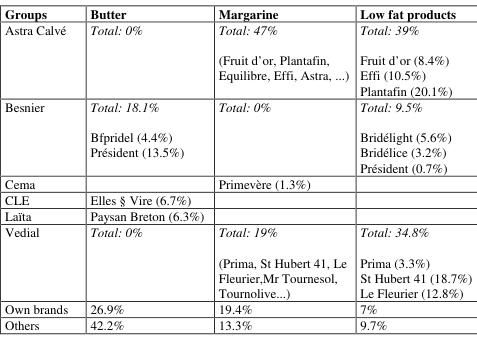table: (3, 4, 471, 332)
table column: (210, 4, 353, 332), (78, 4, 210, 332), (353, 4, 471, 332), (3, 4, 78, 332)
table column header: (3, 4, 471, 21)
table row: (3, 97, 471, 174), (3, 223, 471, 300), (3, 21, 471, 97), (3, 4, 471, 21), (3, 206, 471, 223), (3, 174, 471, 190), (3, 190, 471, 206), (3, 300, 471, 316), (3, 316, 471, 332)
